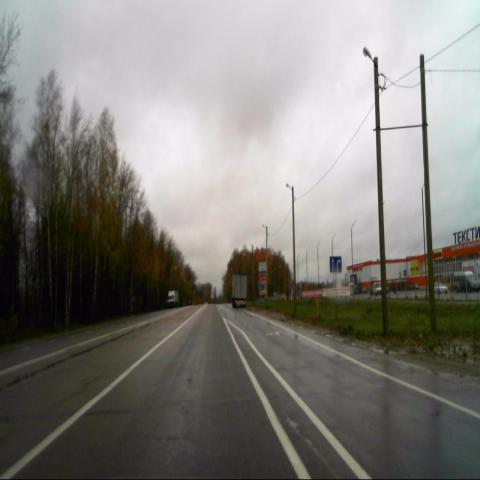5_15_2_2: (328, 254, 342, 272)
